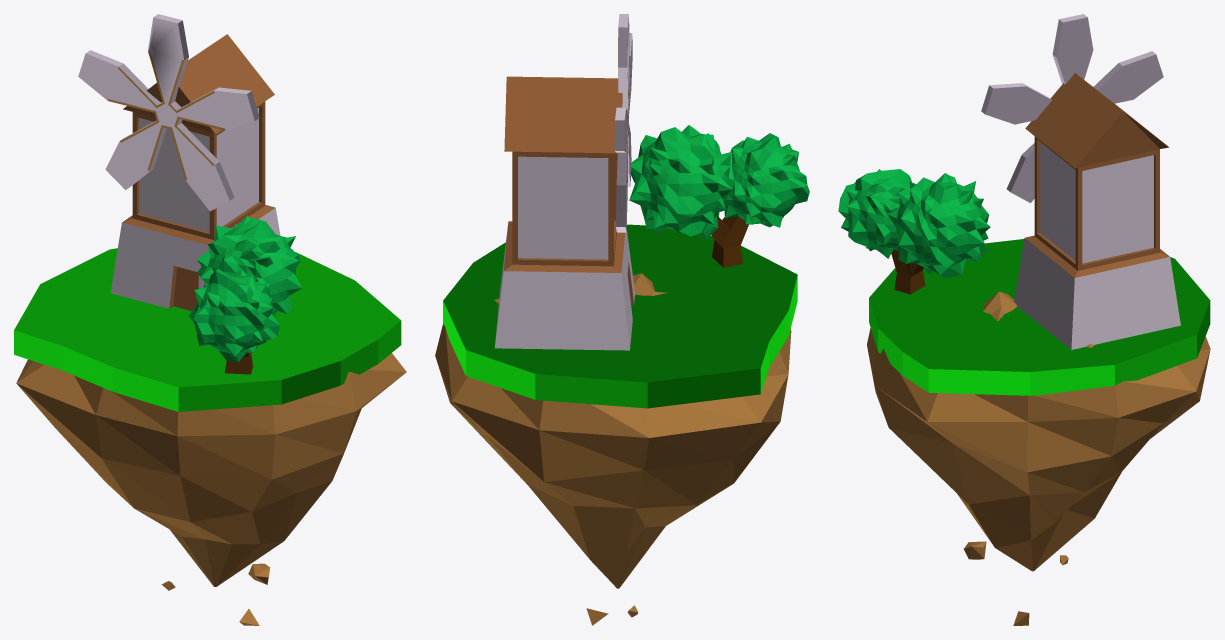
Rendered from low-poly-mill.obj.
3 renders of one model, left to right at view 1: azimuth 30°, elevation 25°; view 2: azimuth 150°, elevation 25°; view 3: azimuth 270°, elevation 25°, orthographic. The views are drawn at different scales.
Visible parts, largest first — view 1: Island, Green_platform, Mill, propeller, Tree; view 2: Island, Green_platform, Mill, Tree, propeller; view 3: Island, Mill, Green_platform, Tree, propeller.
Boxes of the visible parts, x1=… form: Island: x1=16, y1=353, x2=406, y2=625; Green_platform: x1=14, y1=248, x2=401, y2=411; Mill: x1=110, y1=34, x2=280, y2=310; propeller: x1=78, y1=14, x2=259, y2=211; Tree: x1=189, y1=215, x2=301, y2=374; Island: x1=435, y1=273, x2=791, y2=625; Green_platform: x1=443, y1=224, x2=797, y2=408; Mill: x1=495, y1=76, x2=634, y2=350; Tree: x1=629, y1=125, x2=809, y2=267; propeller: x1=614, y1=14, x2=632, y2=232; Island: x1=867, y1=291, x2=1210, y2=625; Mill: x1=1014, y1=73, x2=1180, y2=349; Green_platform: x1=869, y1=239, x2=1210, y2=395; Tree: x1=838, y1=169, x2=990, y2=294; propeller: x1=981, y1=14, x2=1163, y2=202.
Size of the model in its own units: 5.27 by 9.73 by 5.64.
